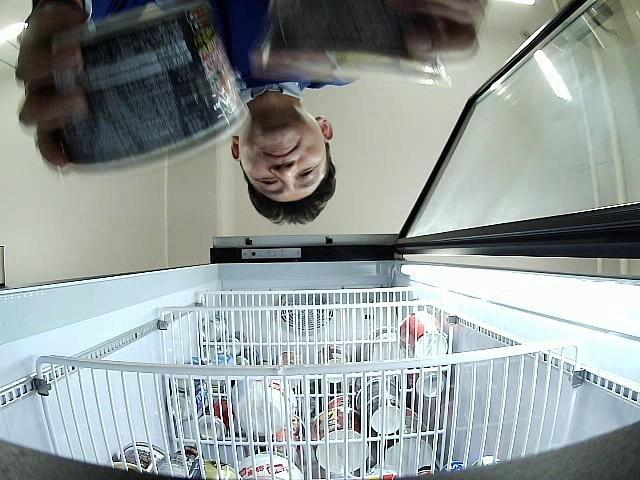07_buldak_L: (53, 0, 250, 177), (262, 0, 452, 88)
